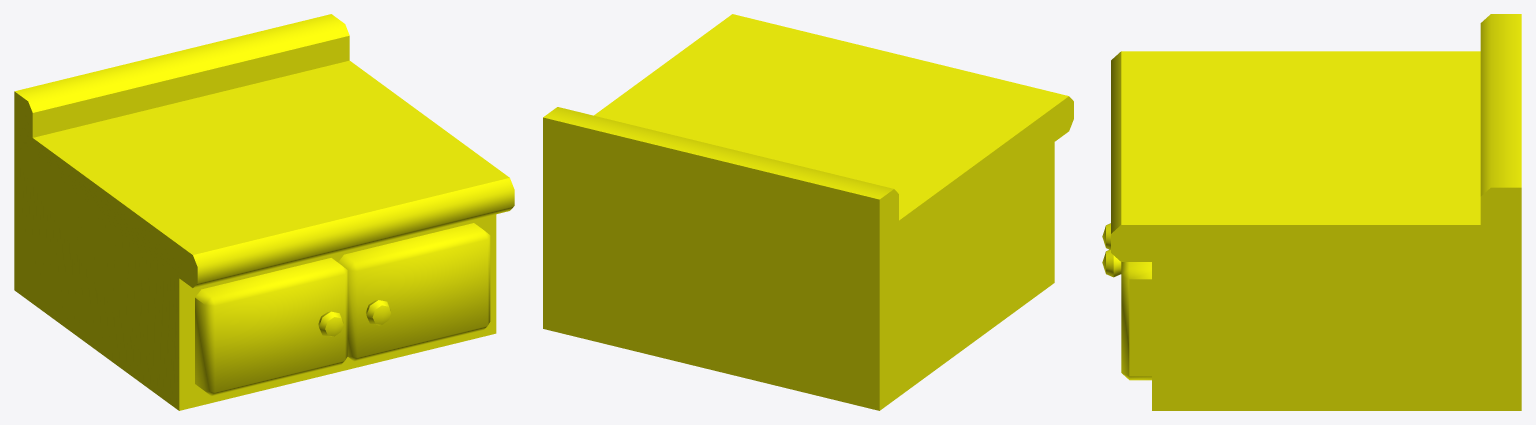
File: kaykit-kitchencounter-straight-b-backsplash.glb
The picture shows the model from 3 angles, left to right: view 1: azimuth 30°, elevation 25°; view 2: azimuth 150°, elevation 25°; view 3: azimuth 270°, elevation 25°; orthographic projection. The views are drawn at different scales.
Parts seen in each view (by area): view 1: kitchencounter_straight_B_backsplash; view 2: kitchencounter_straight_B_backsplash; view 3: kitchencounter_straight_B_backsplash.
Boxes of the visible parts, left/top/right/bottom form: kitchencounter_straight_B_backsplash: left=14, top=14, right=514, bottom=410; kitchencounter_straight_B_backsplash: left=543, top=14, right=1073, bottom=410; kitchencounter_straight_B_backsplash: left=1102, top=14, right=1521, bottom=410.
Size of the model in its own units: 2 by 1.2 by 2.04.
